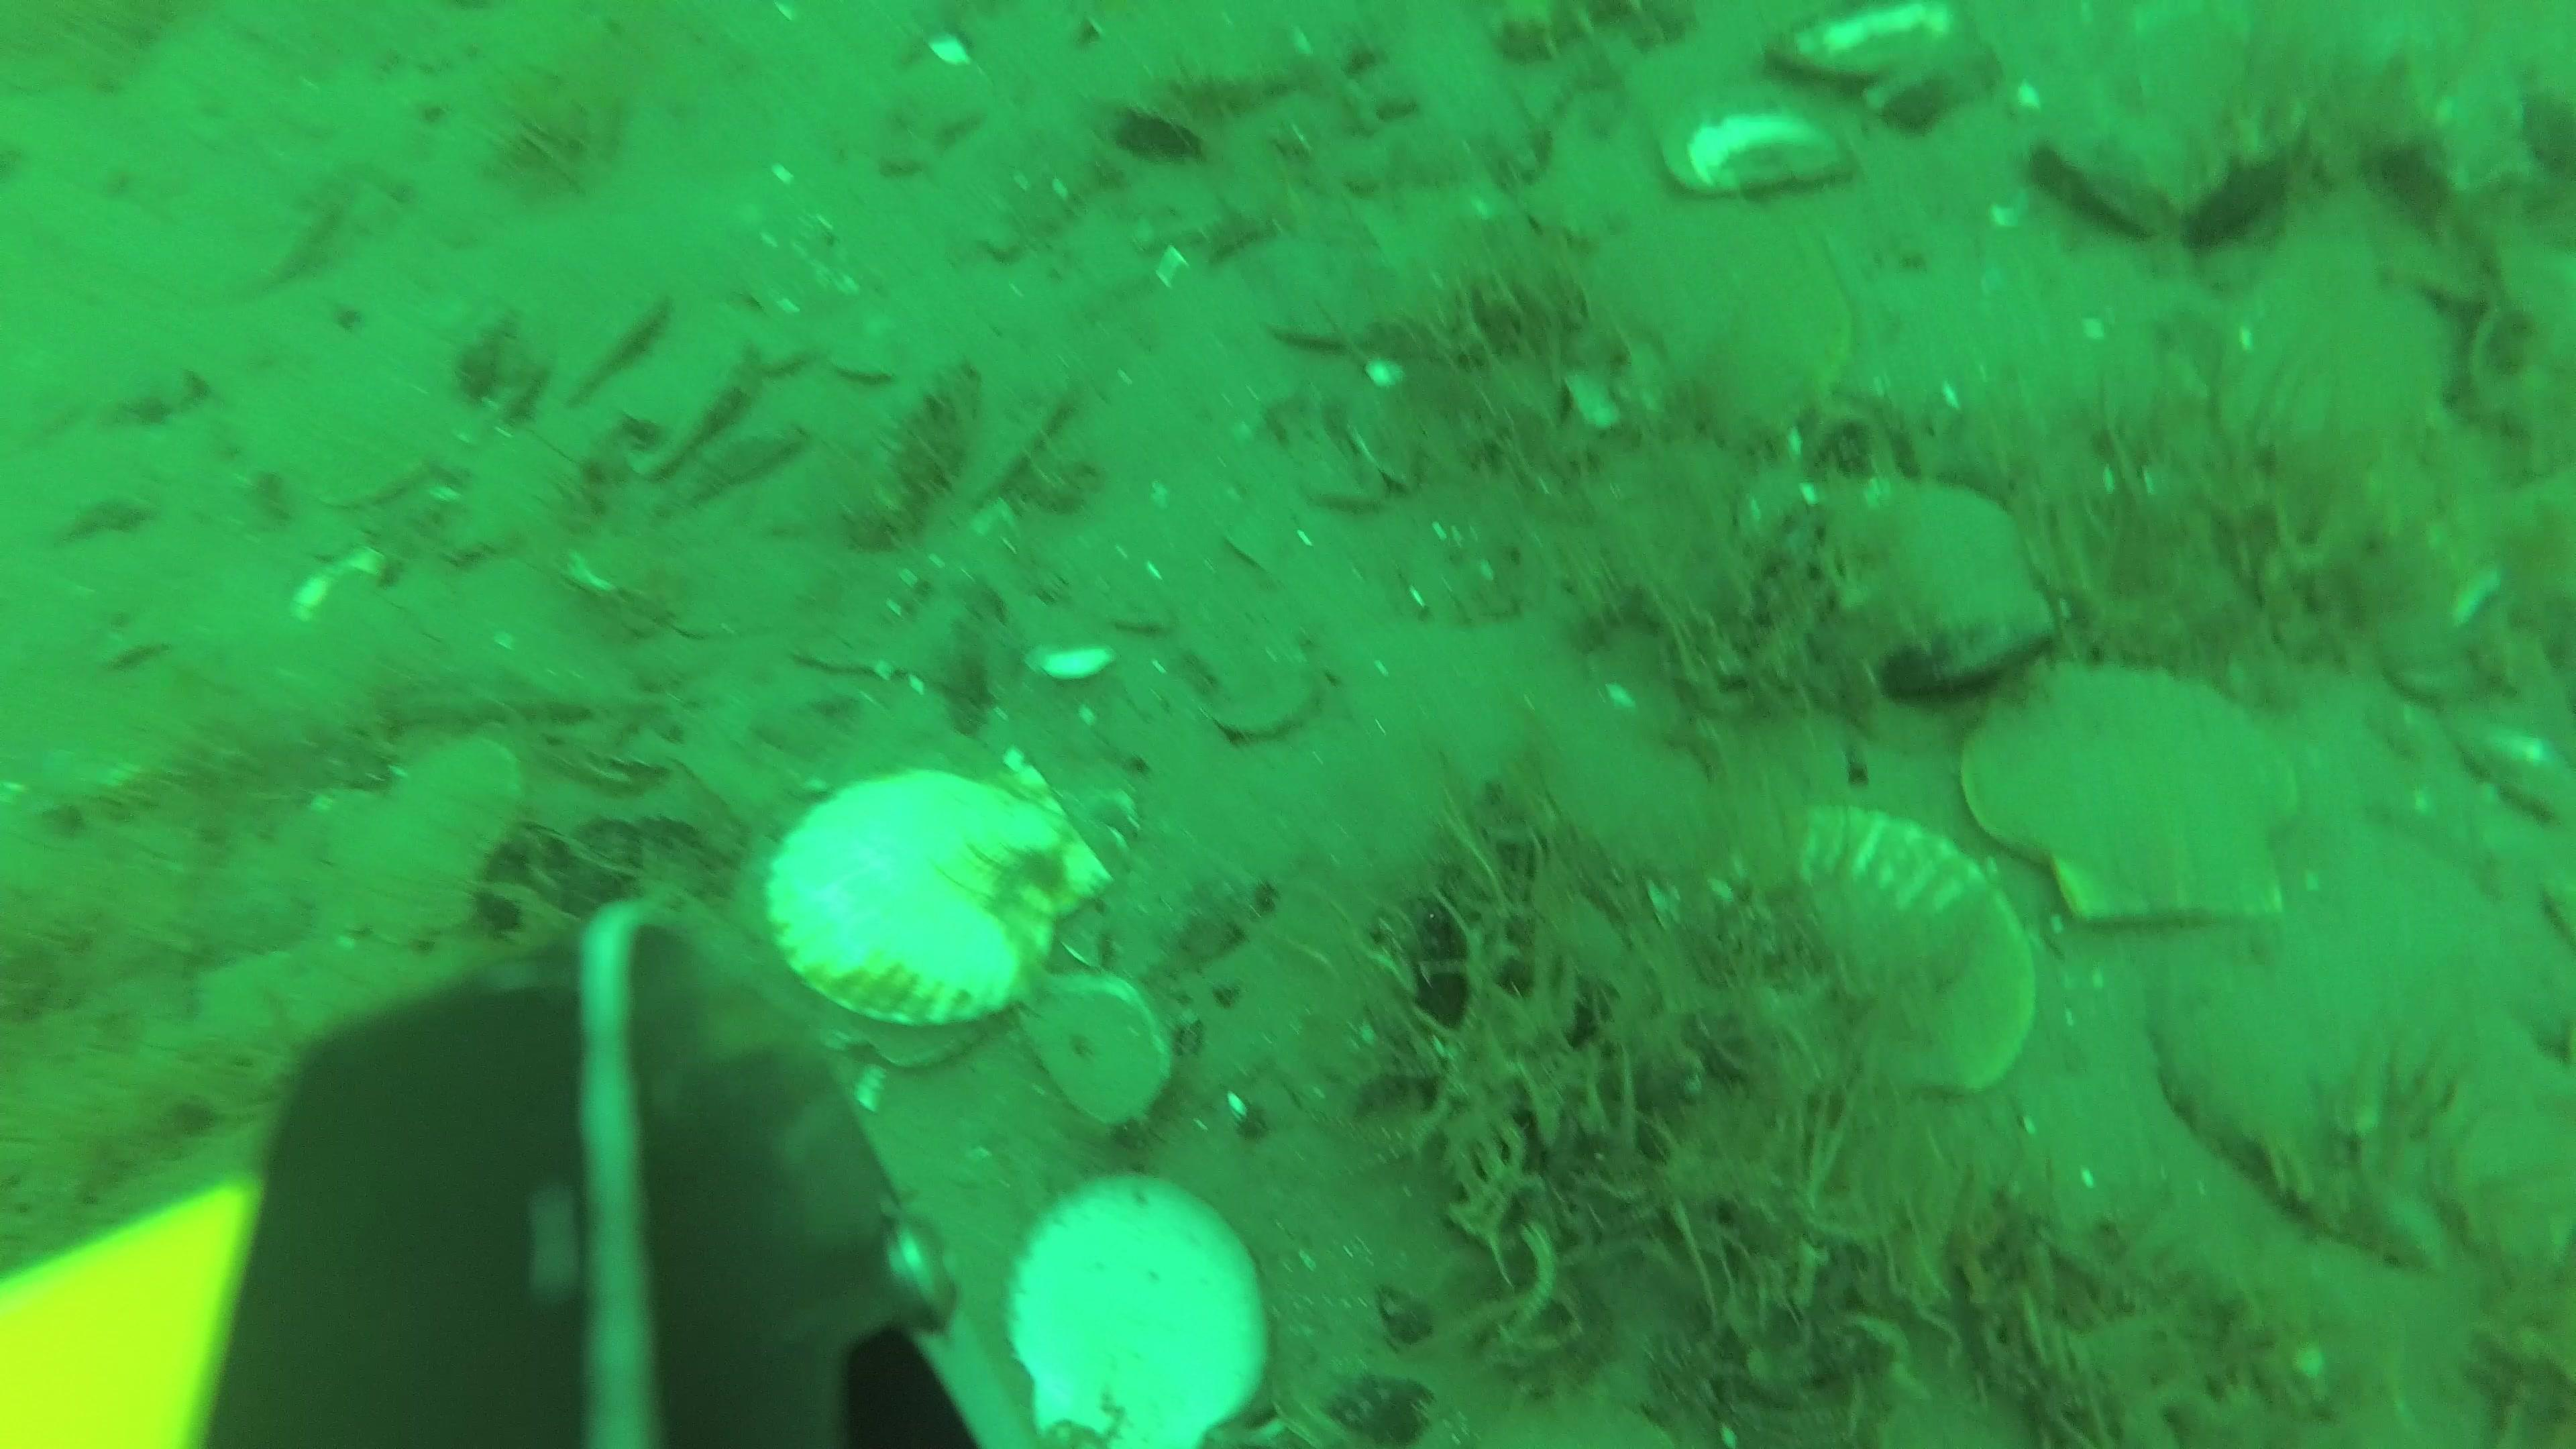holothurian: (1486, 0, 1672, 73)
scallop: (770, 763, 1102, 1060), (1957, 665, 2311, 931), (1721, 809, 2035, 1104), (1000, 1166, 1274, 1449), (1585, 207, 1868, 442), (1803, 483, 2043, 672), (2227, 258, 2434, 456), (1246, 228, 1414, 357)
